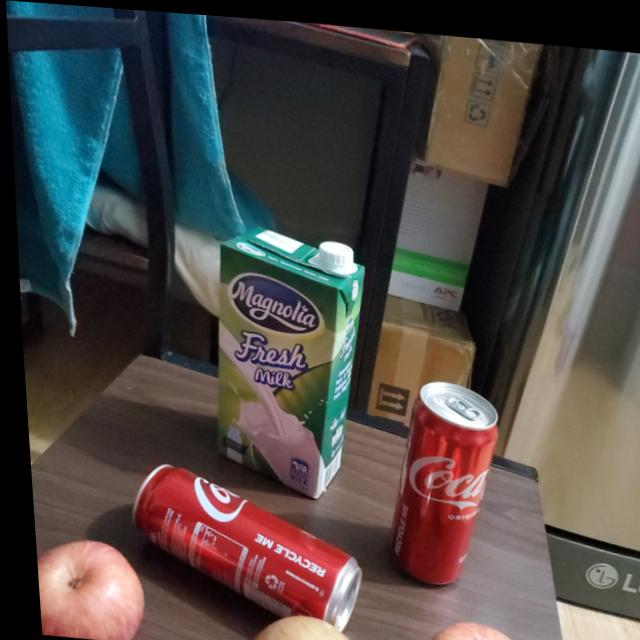apple: (28, 534, 137, 640), (229, 609, 356, 640), (409, 612, 533, 640)
coke: (125, 462, 363, 626), (371, 368, 506, 582)
milk: (198, 222, 376, 505)
